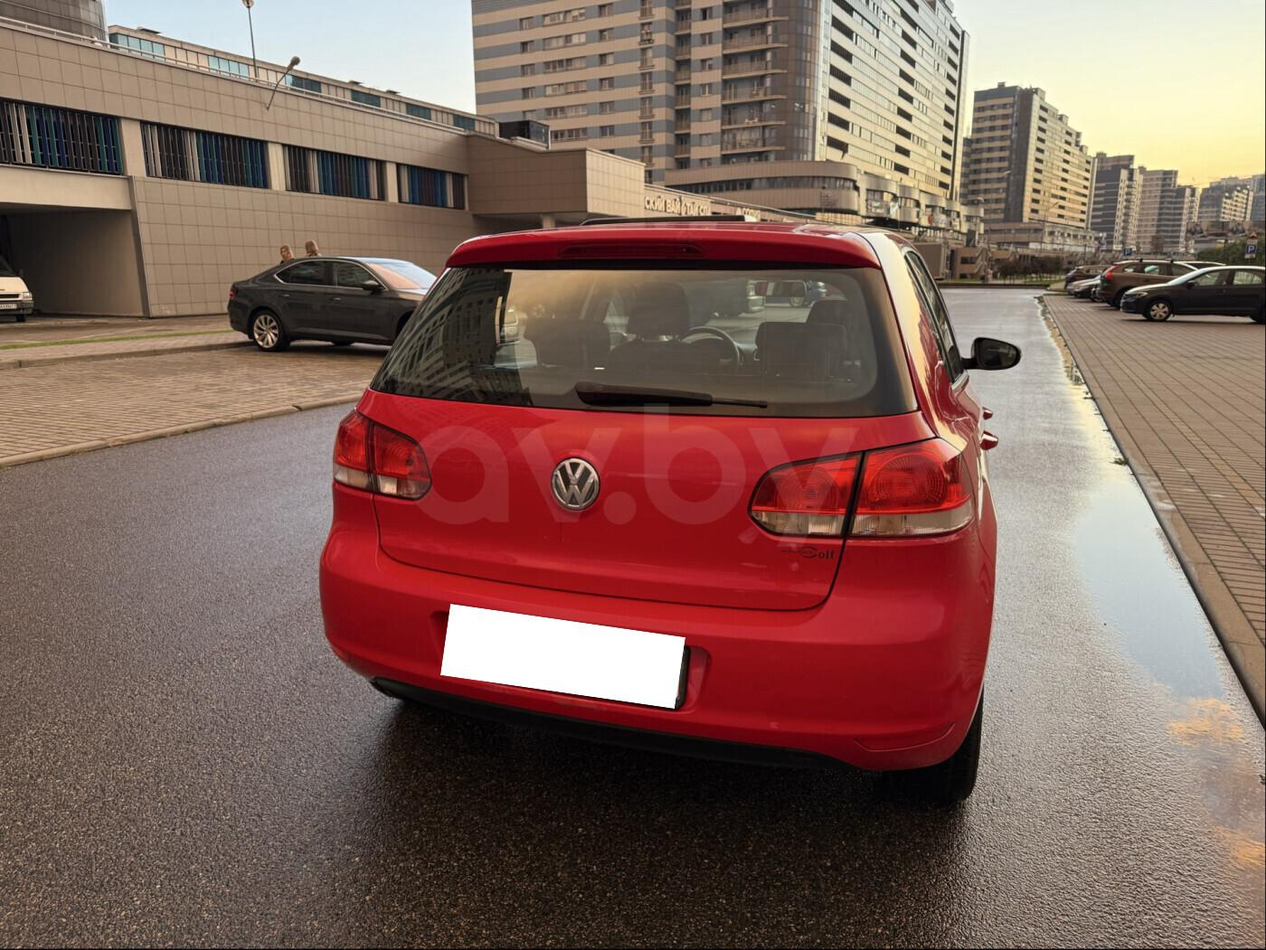Golf_2008-2013: (315, 212, 1003, 799)
